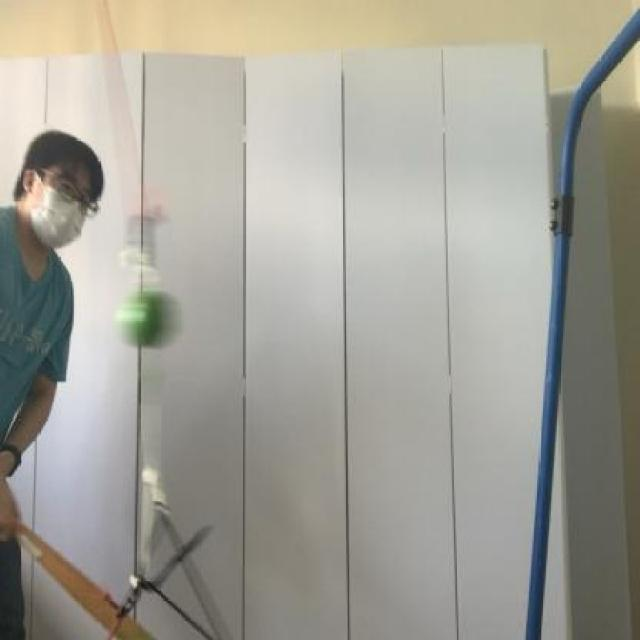baseball: (114, 288, 192, 358)
